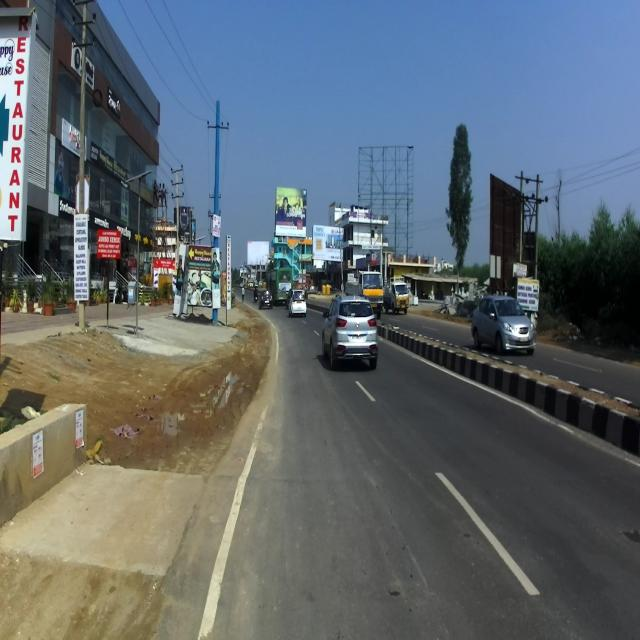bus: (266, 266, 292, 304)
car: (321, 294, 378, 370), (470, 294, 536, 356), (287, 288, 307, 317), (258, 289, 272, 308)
truck: (383, 277, 409, 314)
